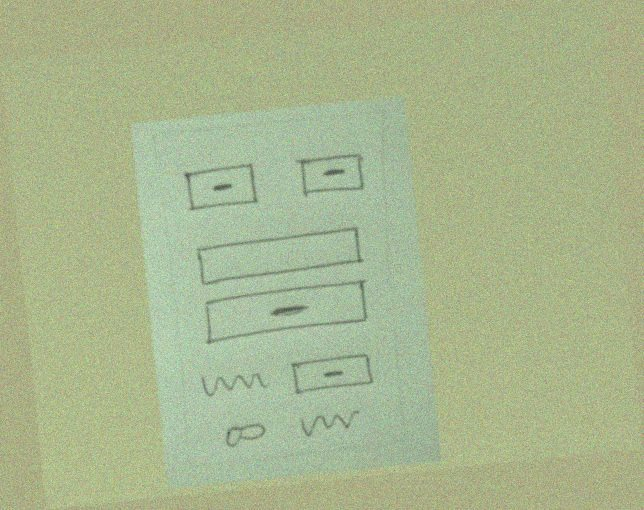button: (198, 277, 376, 348), (287, 350, 381, 401), (181, 158, 262, 217), (292, 147, 371, 203)
switch: (217, 418, 273, 455)
text: (197, 361, 271, 403), (292, 404, 367, 444)
text_input: (191, 223, 369, 286)
